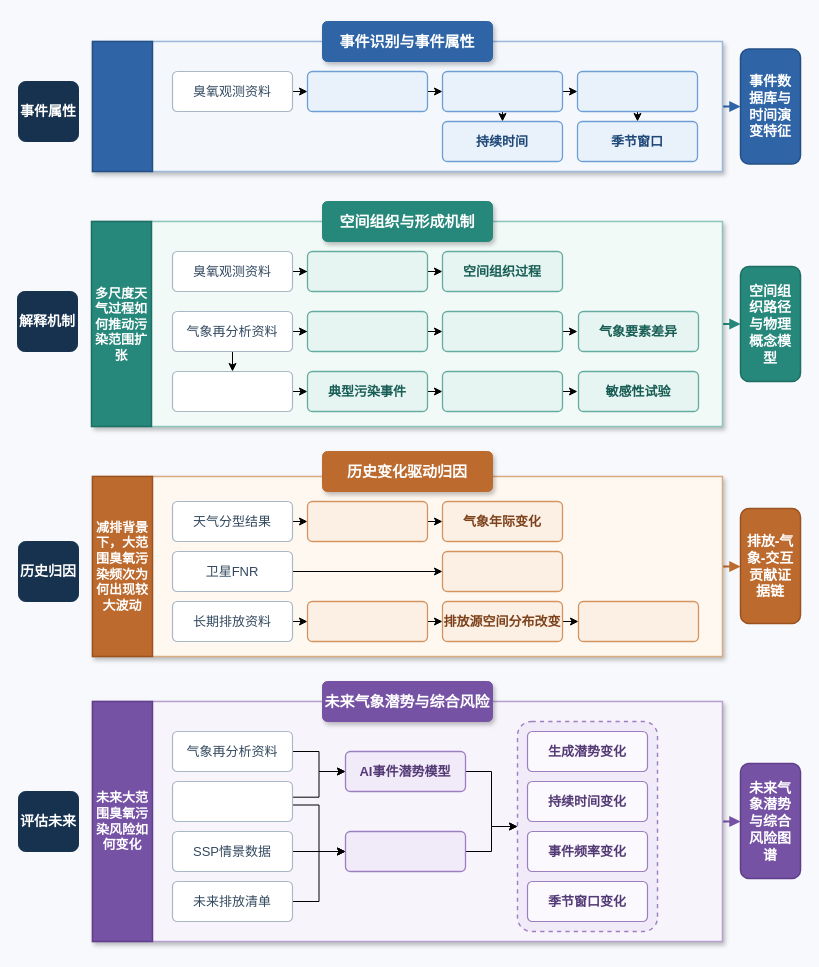
Image size: 819x967. Some labels were removed from this diagram. Each missing label, with the centre of its shape:
"CMIP6多模式数据" goes at pixel 232 801.
"NO滴定与敏感性转化" goes at pixel 502 571.
"WRF-Chem数值模式" goes at pixel 232 391.
"典型天气型/天气系统" goes at pixel 502 331.
"多情景矩阵模拟" goes at pixel 405 851.
"大范围臭氧污染有哪些基本属性" goes at pixel 122 106.
"天气型条件概率诊断" goes at pixel 367 521.
"客观天气分型" goes at pixel 367 331.
"建立事件识别标准" goes at pixel 367 91.
"早/晚期气象/排放矩阵试验" goes at pixel 367 621.
"构建事件目录" goes at pixel 502 91.
"污染事件生命周期" goes at pixel 367 271.
"物理化学过程分析" goes at pixel 502 391.
"长期趋势" goes at pixel 637 91.
"颗粒物-辐射效应" goes at pixel 638 621.
